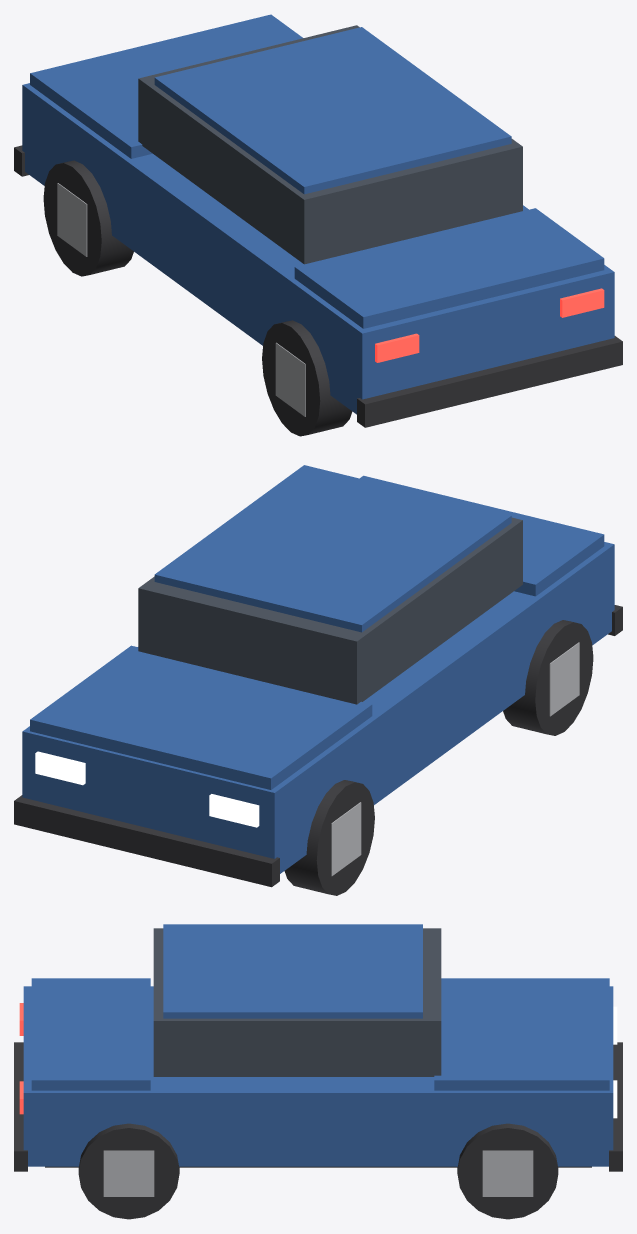
File: car_blue.gltf
3 views of the same model, one above another, from view 1: azimuth 30°, elevation 25°; view 2: azimuth 150°, elevation 25°; view 3: azimuth 270°, elevation 25° (orthographic). The views are drawn at different scales.
Parts seen in each view (by area): view 1: Body, Roof, Cabin, Trim, Wheel0, Wheel2, Taillights, Hub0, Hub2; view 2: Body, Roof, Cabin, Trim, Wheel0, Wheel2, Headlights, Hub0, Hub2; view 3: Body, Roof, Cabin, Wheel1, Wheel3, Trim, Hub1, Hub3.
Part boxes in pixels (x1,y1,x2,y2): Body: (22, 14, 614, 414); Roof: (154, 27, 511, 194); Cabin: (138, 25, 522, 264); Trim: (14, 145, 622, 427); Wheel0: (43, 160, 133, 276); Wheel2: (262, 320, 352, 436); Taillights: (375, 288, 604, 362); Hub0: (57, 183, 87, 256); Hub2: (275, 342, 305, 416); Body: (22, 475, 614, 873); Roof: (154, 465, 511, 632); Cabin: (138, 517, 522, 704); Trim: (14, 605, 622, 887); Wheel0: (284, 780, 374, 895); Wheel2: (503, 620, 593, 735); Headlights: (35, 751, 259, 827); Hub0: (331, 802, 361, 876); Hub2: (549, 642, 579, 716); Body: (23, 978, 613, 1166); Roof: (163, 924, 422, 1018); Cabin: (153, 928, 441, 1076); Wheel1: (457, 1123, 558, 1219); Wheel3: (78, 1123, 179, 1219); Trim: (14, 1042, 622, 1171); Hub1: (482, 1150, 533, 1196); Hub3: (103, 1150, 154, 1196).
Size of the model in its own units: 1.96 by 1.52 by 4.34.
